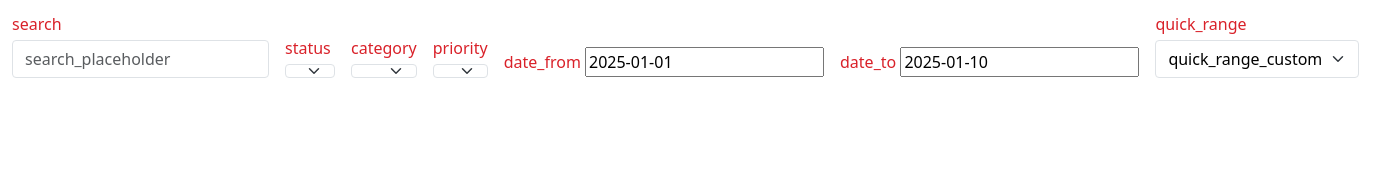
Test case: TableToolbar date range normalization › aligns dateTo when dateFrom is moved later
Replace the text in the field labelled "date_from" with "2025-02-01" at (704, 62), box [585,47,824,77]
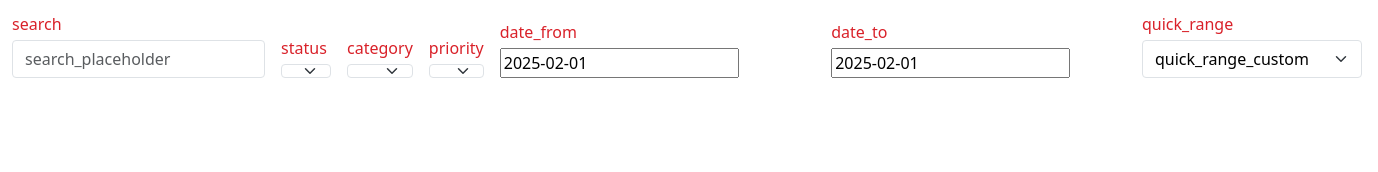
Expected: the field labelled "date_to" holds "2025-02-01", [831,48,1070,78]
